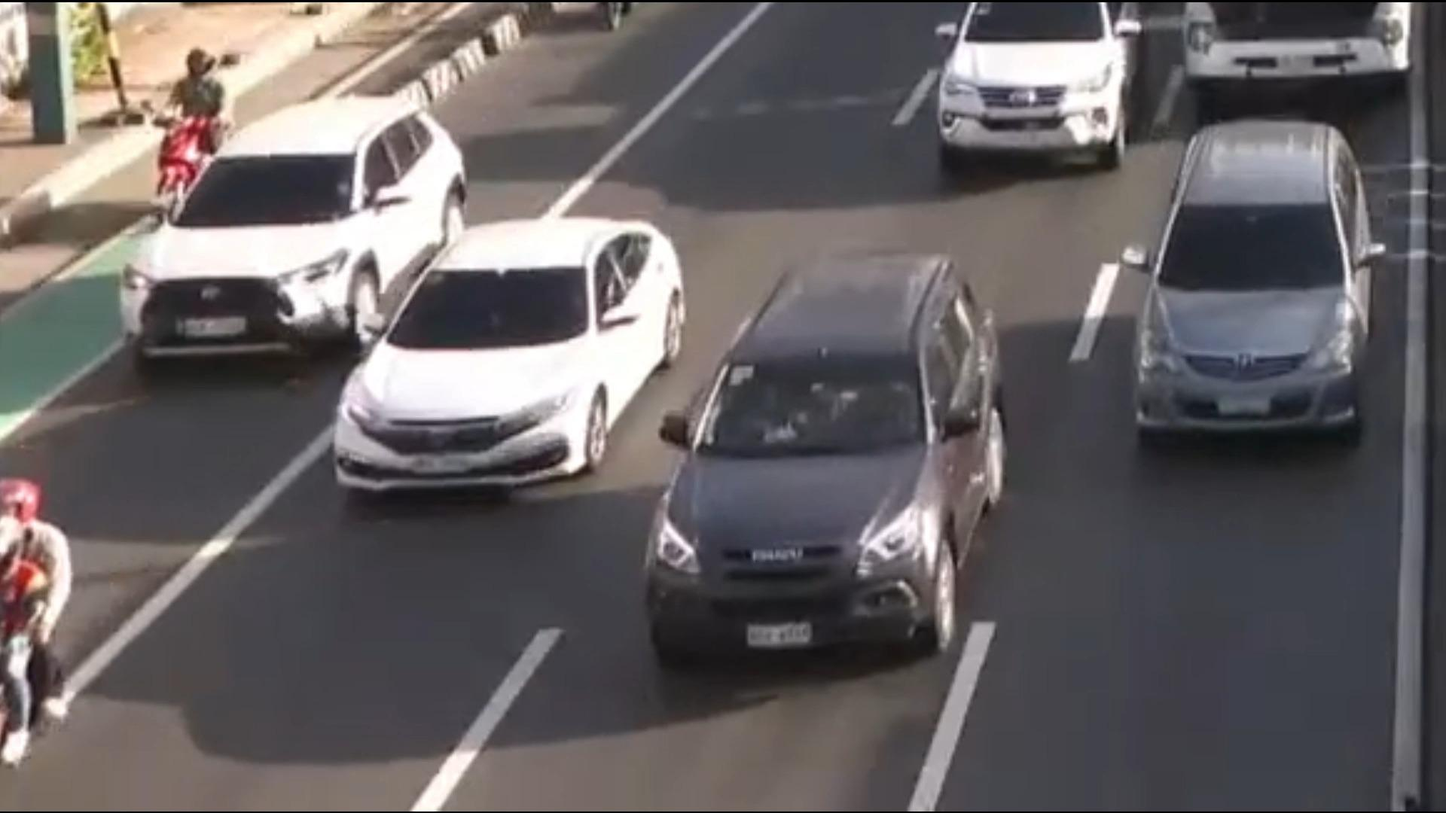Motorcycle: (155, 42, 236, 224)
SUV: (645, 250, 1011, 672), (127, 101, 473, 371), (1127, 128, 1378, 451)
Sedan: (337, 227, 682, 501)
